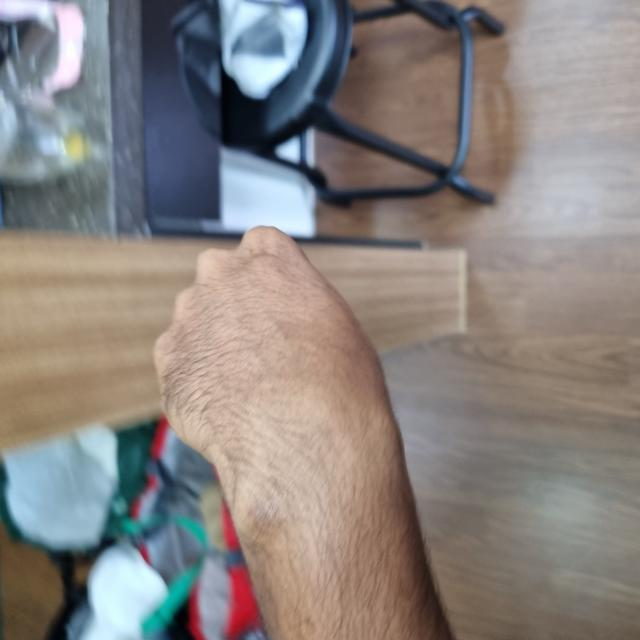Rock: (0, 16, 404, 637)
